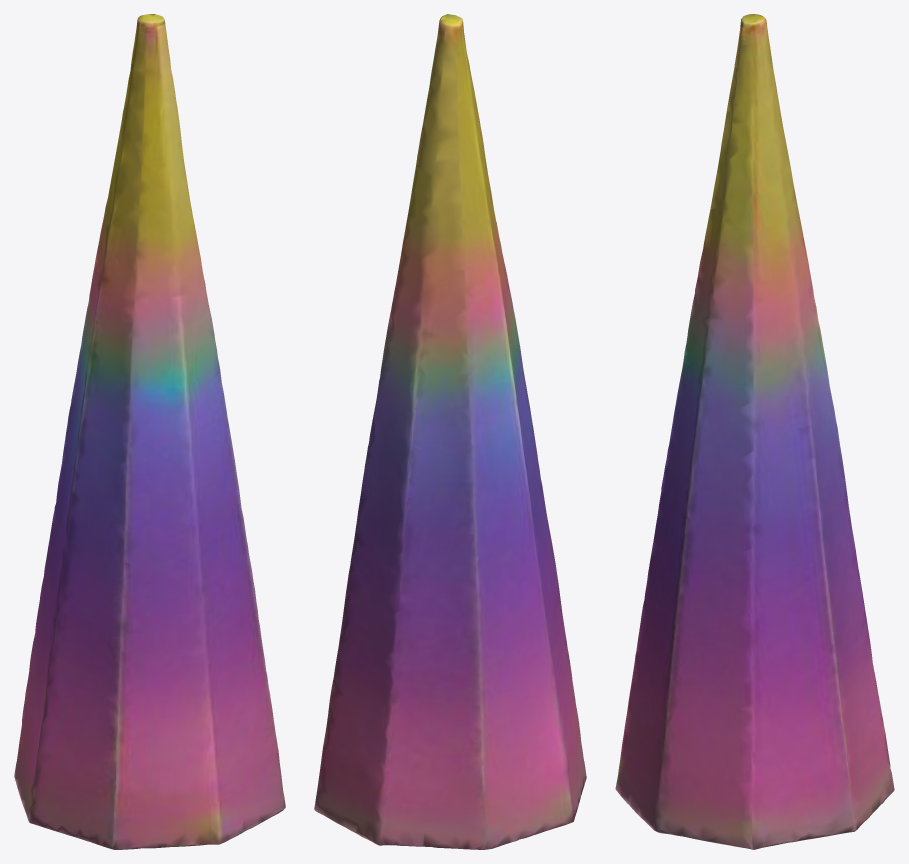
The picture shows the model from 3 angles, left to right: view 1: azimuth 30°, elevation 25°; view 2: azimuth 150°, elevation 25°; view 3: azimuth 270°, elevation 25°; orthographic projection.
Bounding box in the file's own units: 0.6587 × 2 × 0.6551.
1 material, 1 textured.
